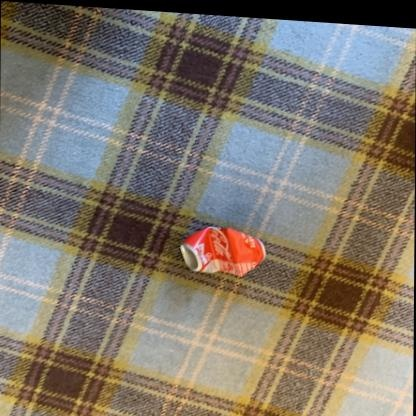trash: (180, 227, 265, 276)
